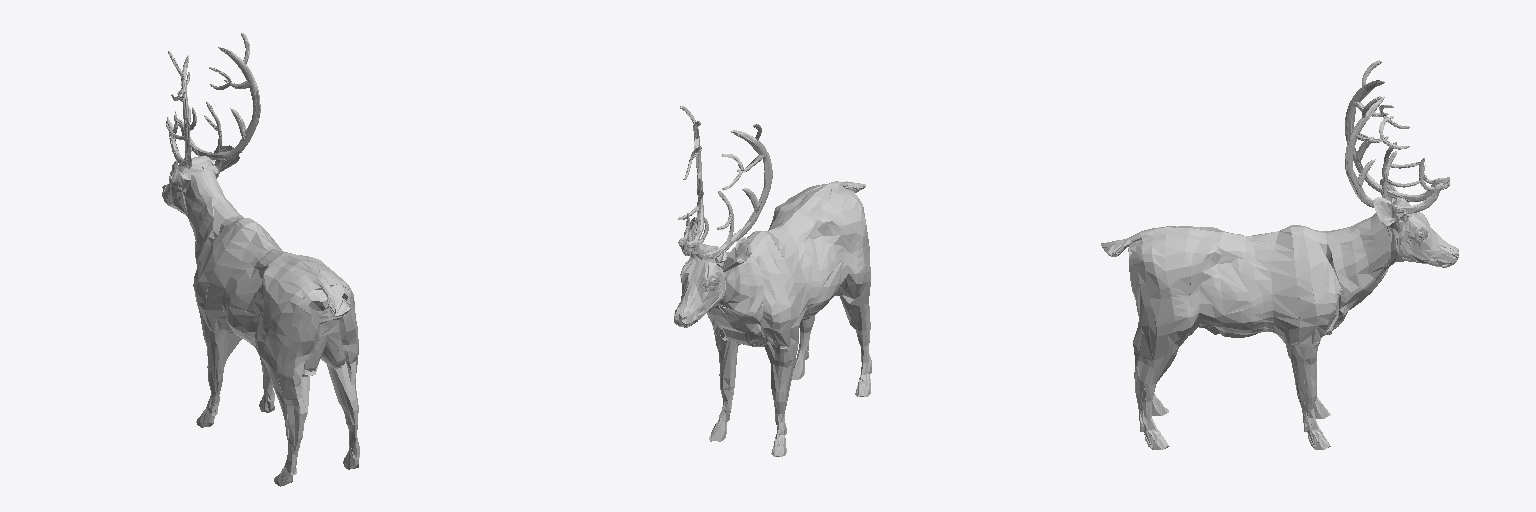
File: Raindeer.obj
3 views of the same model, side by side, from view 1: azimuth 30°, elevation 25°; view 2: azimuth 150°, elevation 25°; view 3: azimuth 270°, elevation 25° (orthographic).
Size of the model in its own units: 83.81 by 314 by 288.